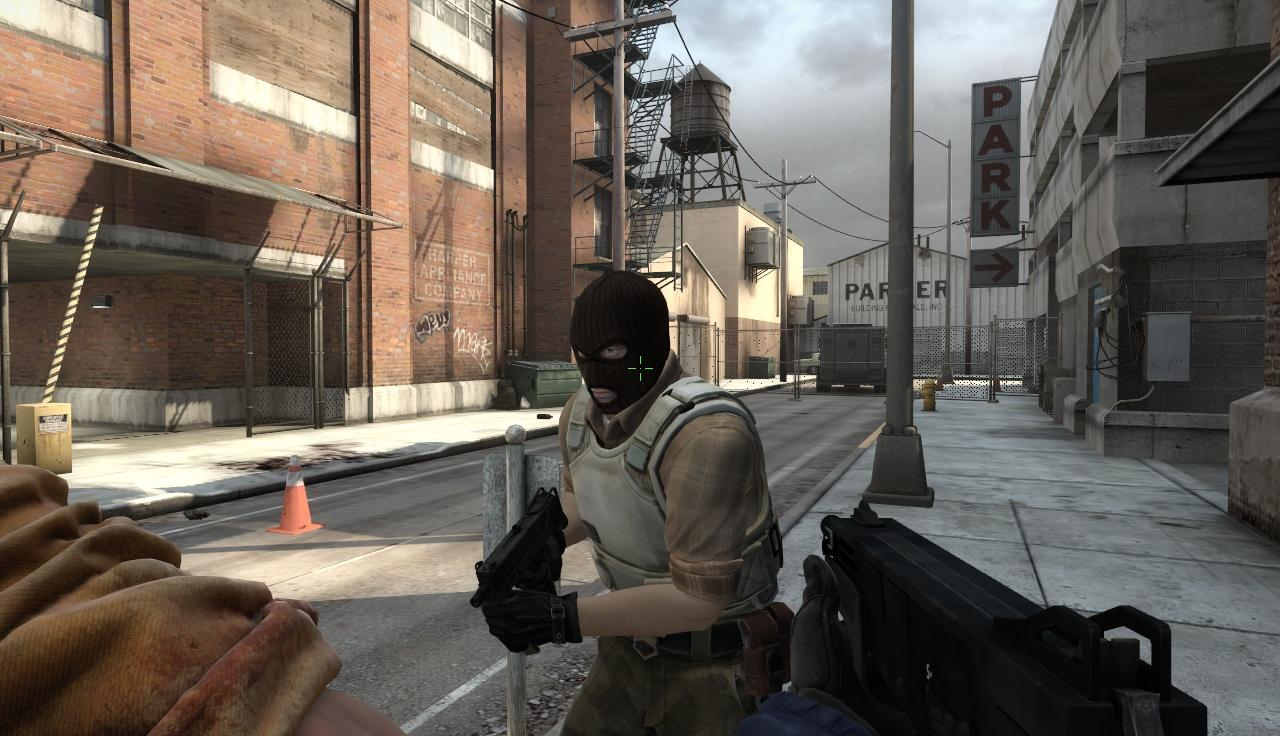shotgun: (790, 496, 1209, 736)
tt: (562, 271, 777, 736)
tthead: (571, 276, 668, 411)
